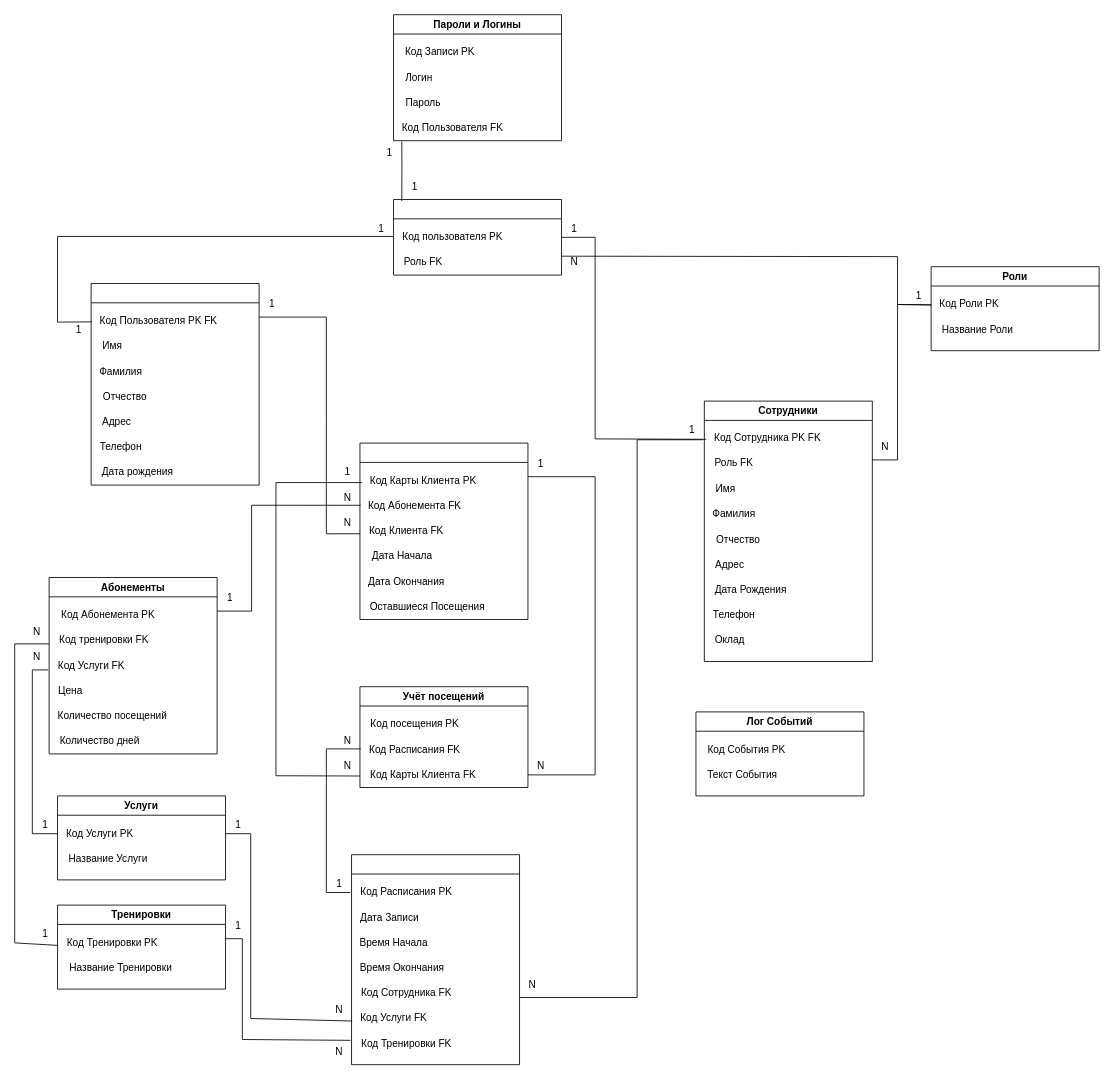
Some shapes in this 1114 by 1079 pixel diagram are drawn without their labels. The box of each missing label's shape, as (x1, y1, x2, y2) in pixels:
Клиент: (90, 283, 259, 485)
Пользователи: (393, 199, 562, 275)
Продажа абонементов: (359, 442, 528, 620)
Расписание: (351, 854, 520, 1065)
